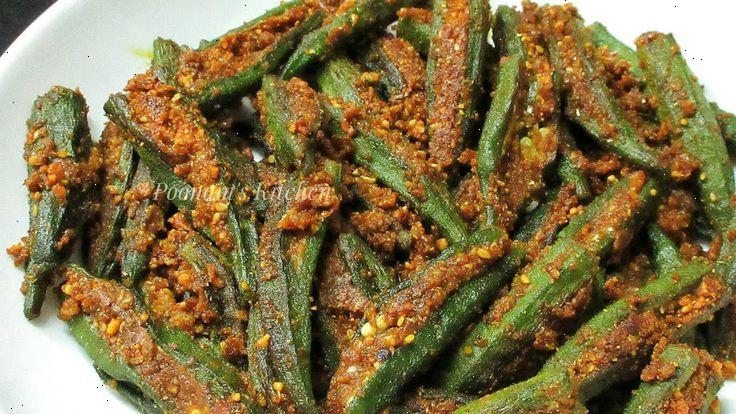bhindi: (95, 61, 736, 413)
